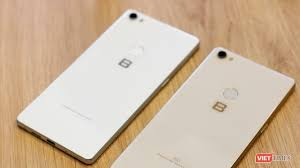bphone: (12, 8, 205, 162)
